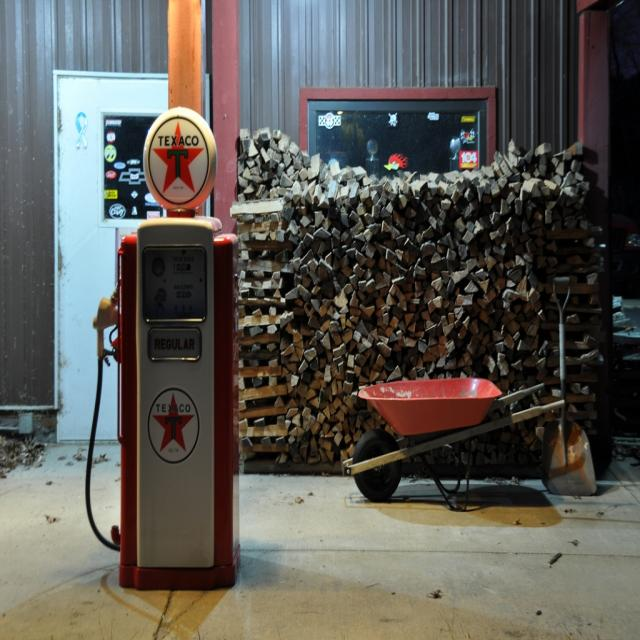texaco: (149, 117, 211, 209), (149, 389, 201, 465)
